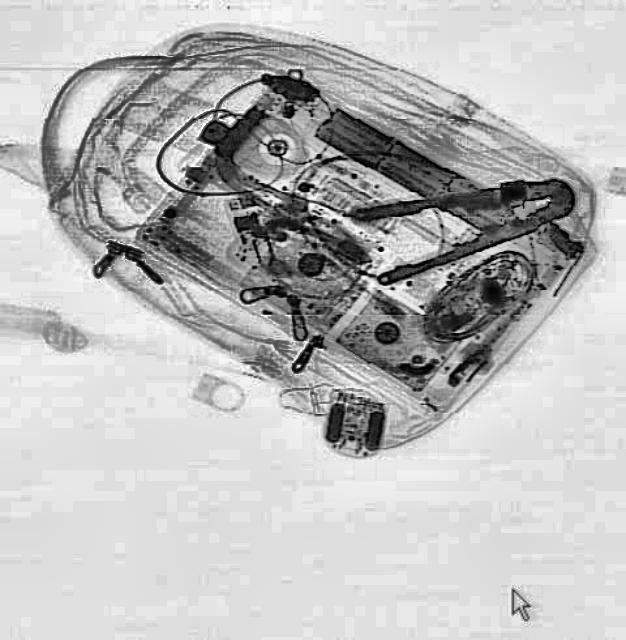Pliers: (354, 154, 586, 286)
